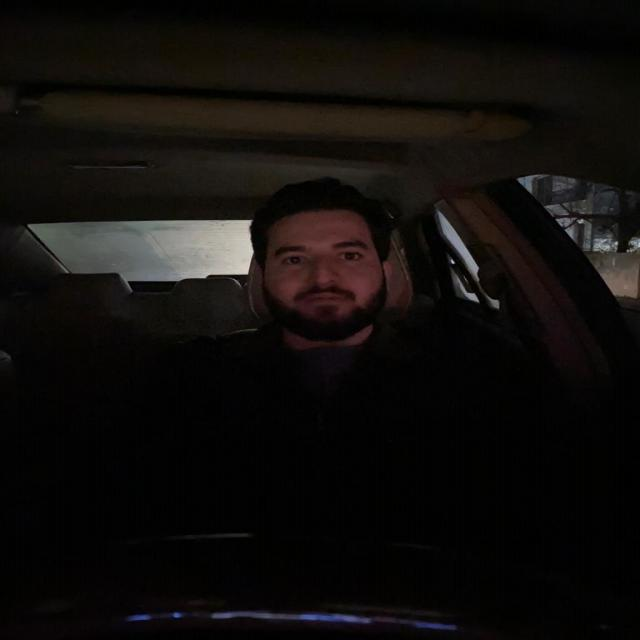person: (248, 180, 397, 330)
